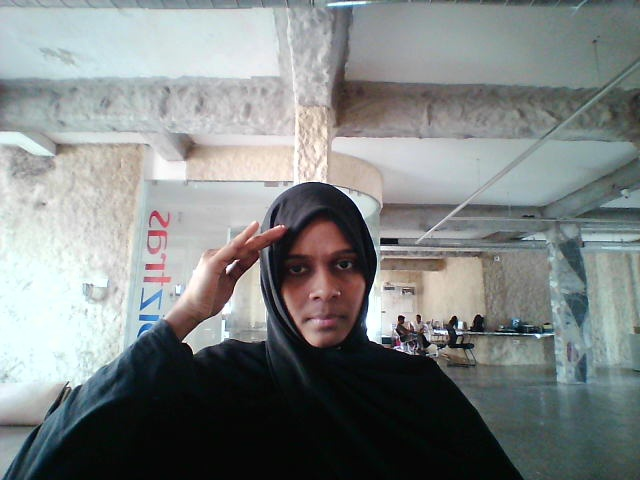HELLO: (177, 206, 292, 345)
